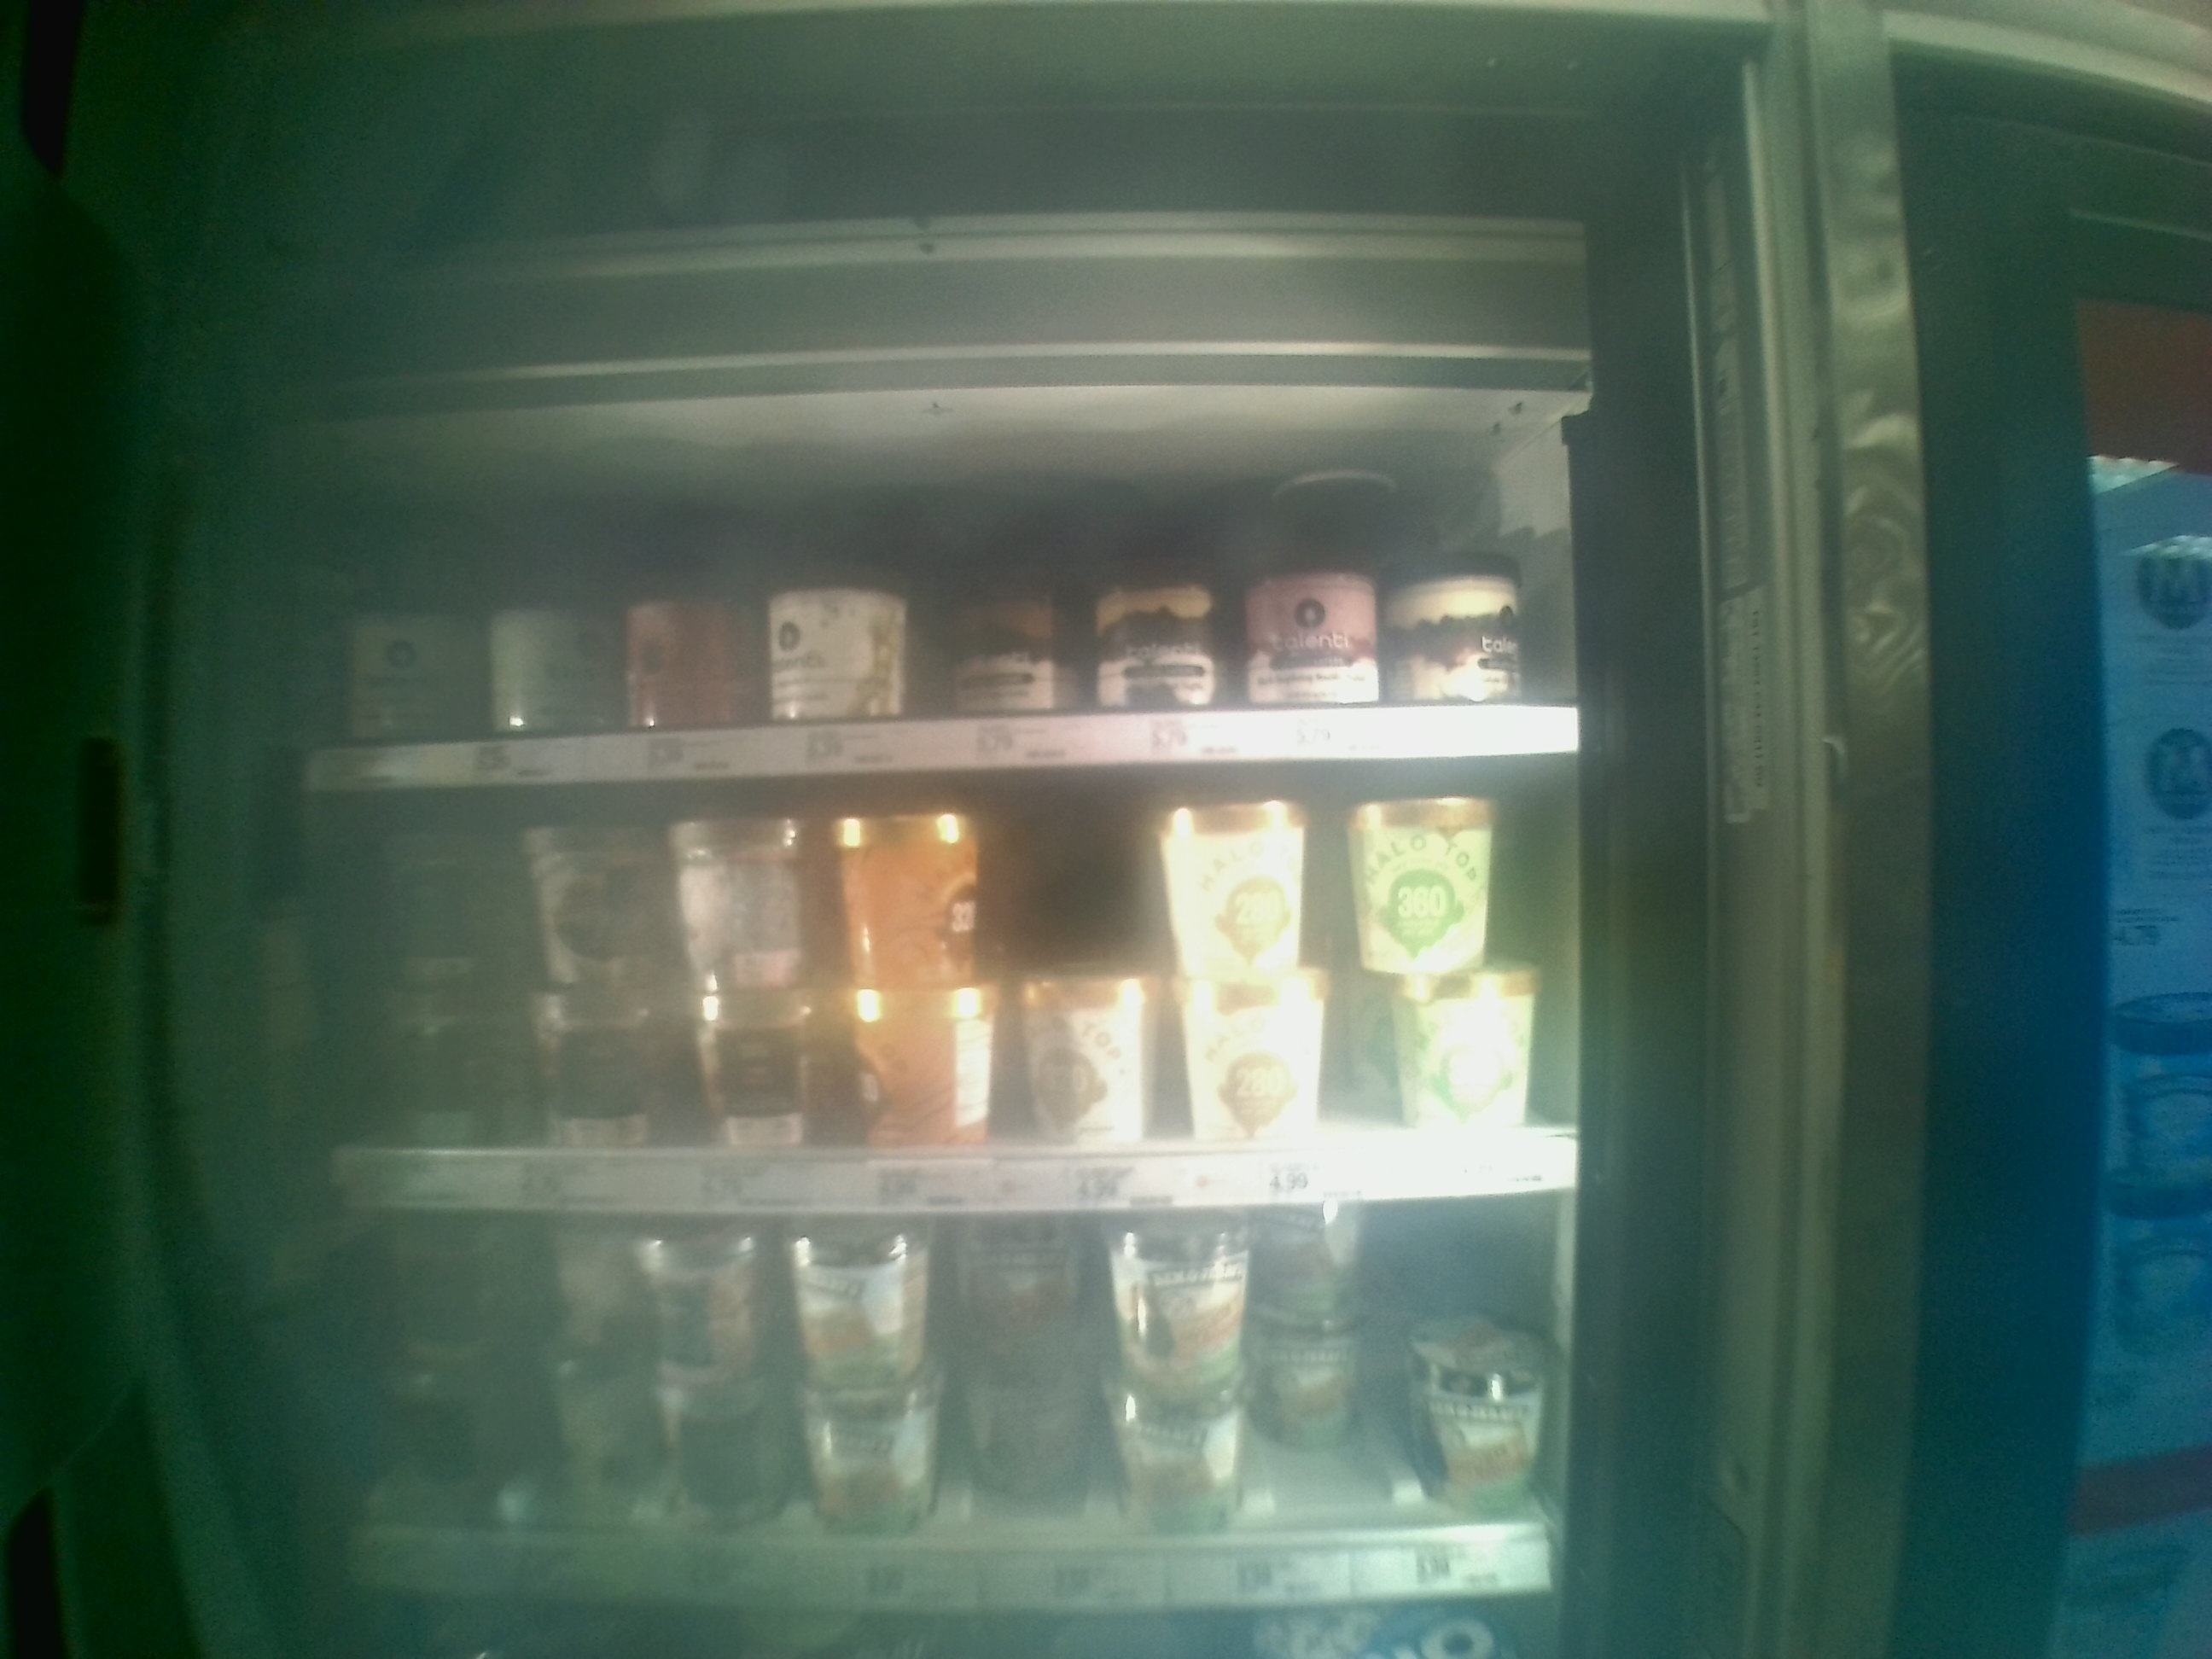shelf: (310, 796, 1588, 1211), (310, 1202, 1583, 1612), (314, 450, 1578, 791)
